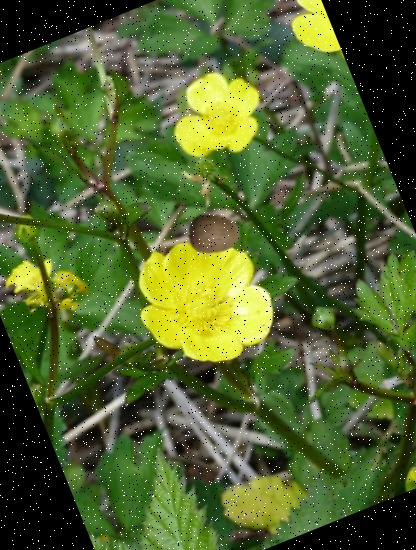Kiwi: (178, 198, 250, 270)
